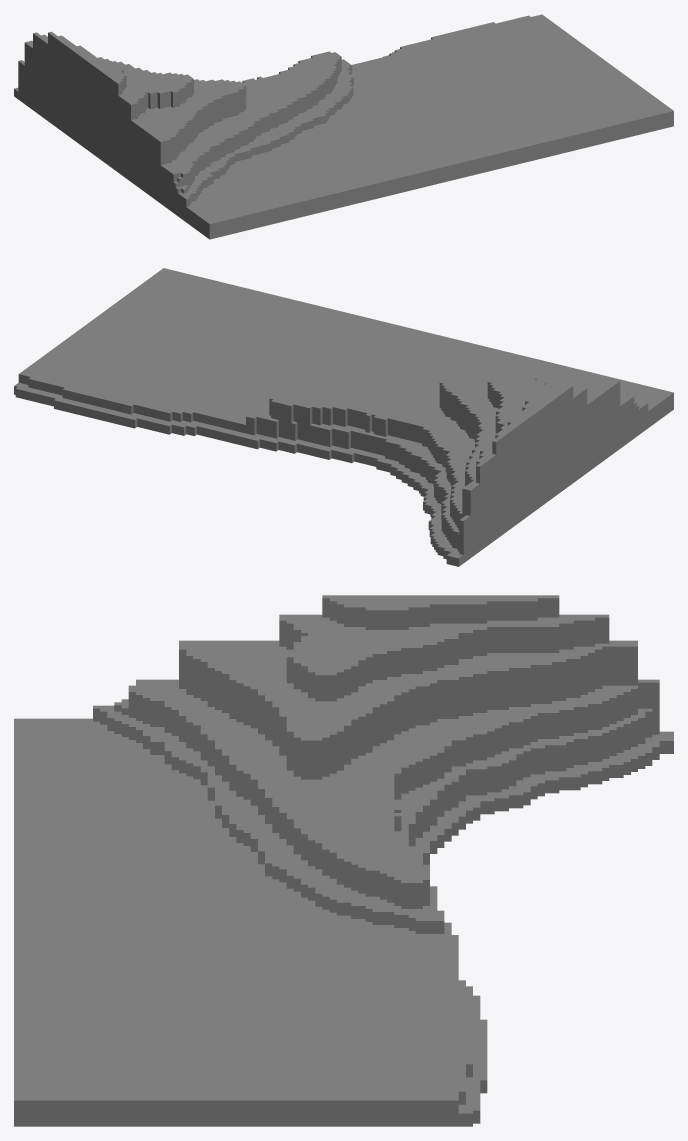
File: Main Island-15.obj
The picture shows the model from 3 angles, top to bottom: view 1: azimuth 30°, elevation 25°; view 2: azimuth 150°, elevation 25°; view 3: azimuth 270°, elevation 25°; orthographic projection. The views are drawn at different scales.
Parts seen in each view (by area): view 1: Main Island-15; view 2: Main Island-15; view 3: Main Island-15.
Boxes of the visible parts, x1,y1,x2,y2 form: Main Island-15: [14, 14, 673, 239]; Main Island-15: [14, 268, 673, 566]; Main Island-15: [14, 595, 673, 1126].
Bounding box in the file's own units: 126 × 23 × 92.
1 material, 1 textured.
